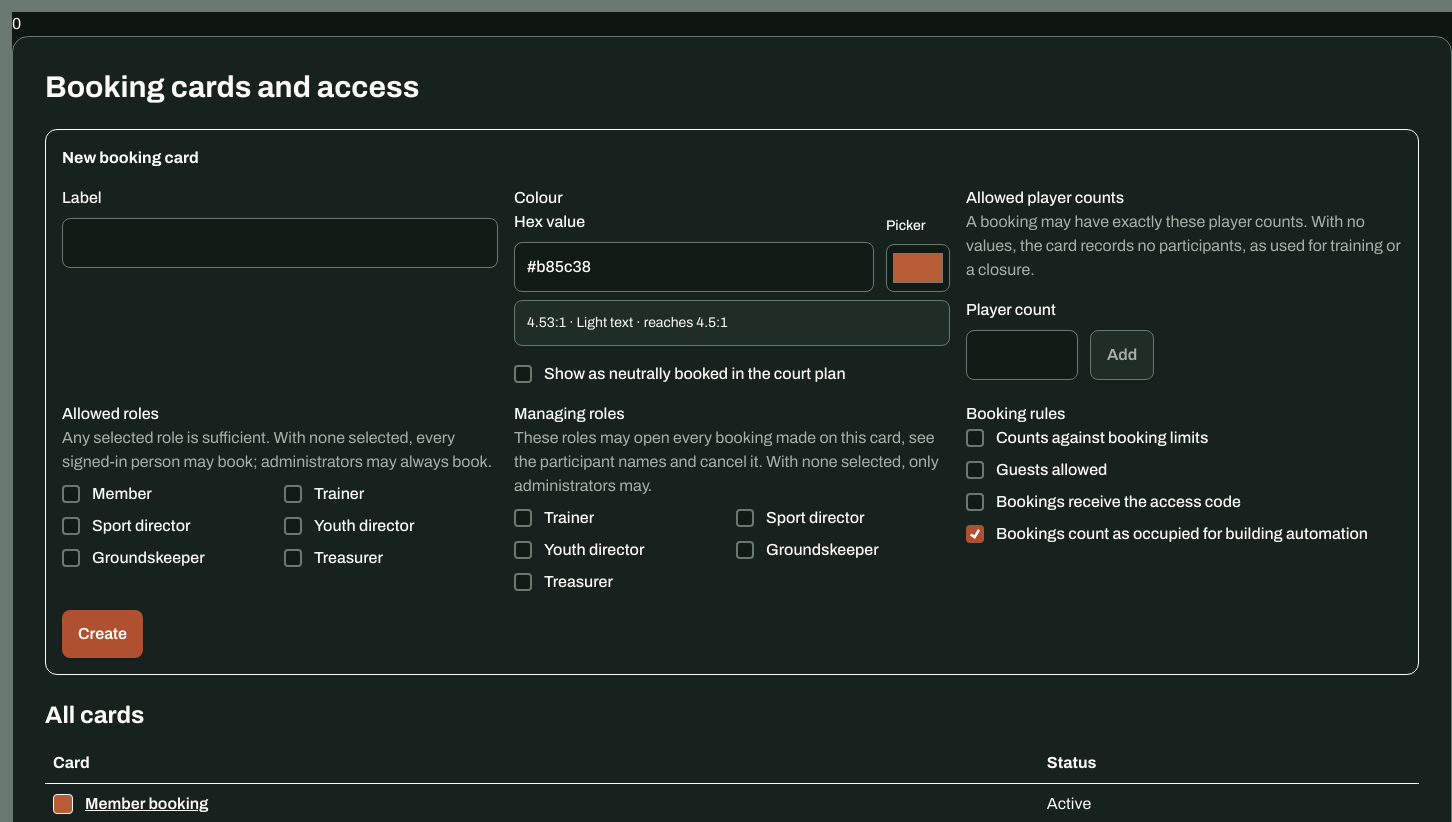
Test: AdminBookingCardsView › given a create form is filled in, when the entry is cleared again, then nothing is left to lose
The width and height of the screenshot is (1452, 822).
Check: the text with test id "unsaved-count" reads "0", box [12,15,21,32]
Type "Training" into the field with test id "new-card-label". click: (280, 243)
box: [62,218,498,268]
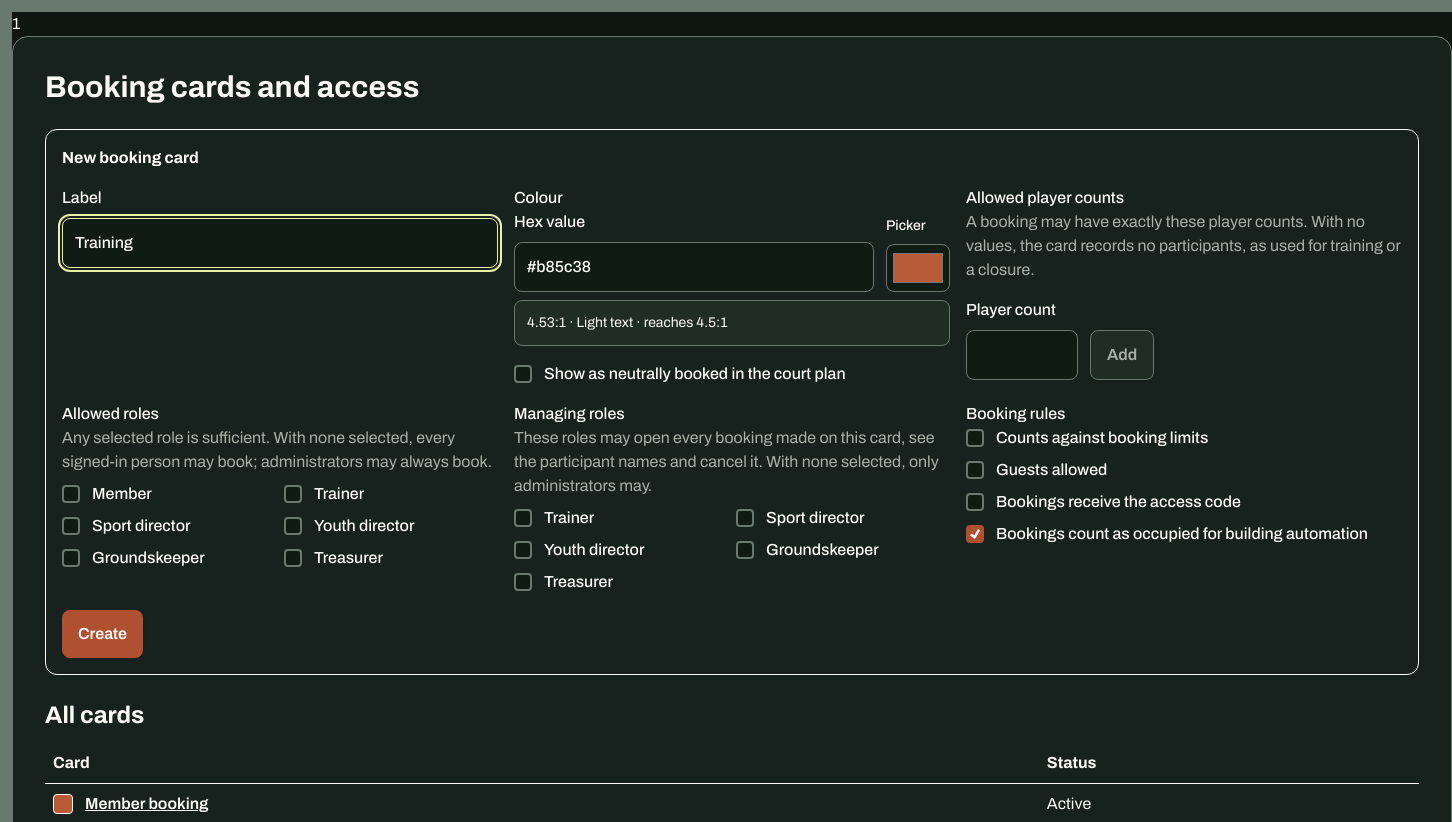
Check: the text with test id "unsaved-count" reads "1", box [12,15,20,32]
Clear the field with test id "new-card-label". click: (280, 243)
box: [62,218,498,268]
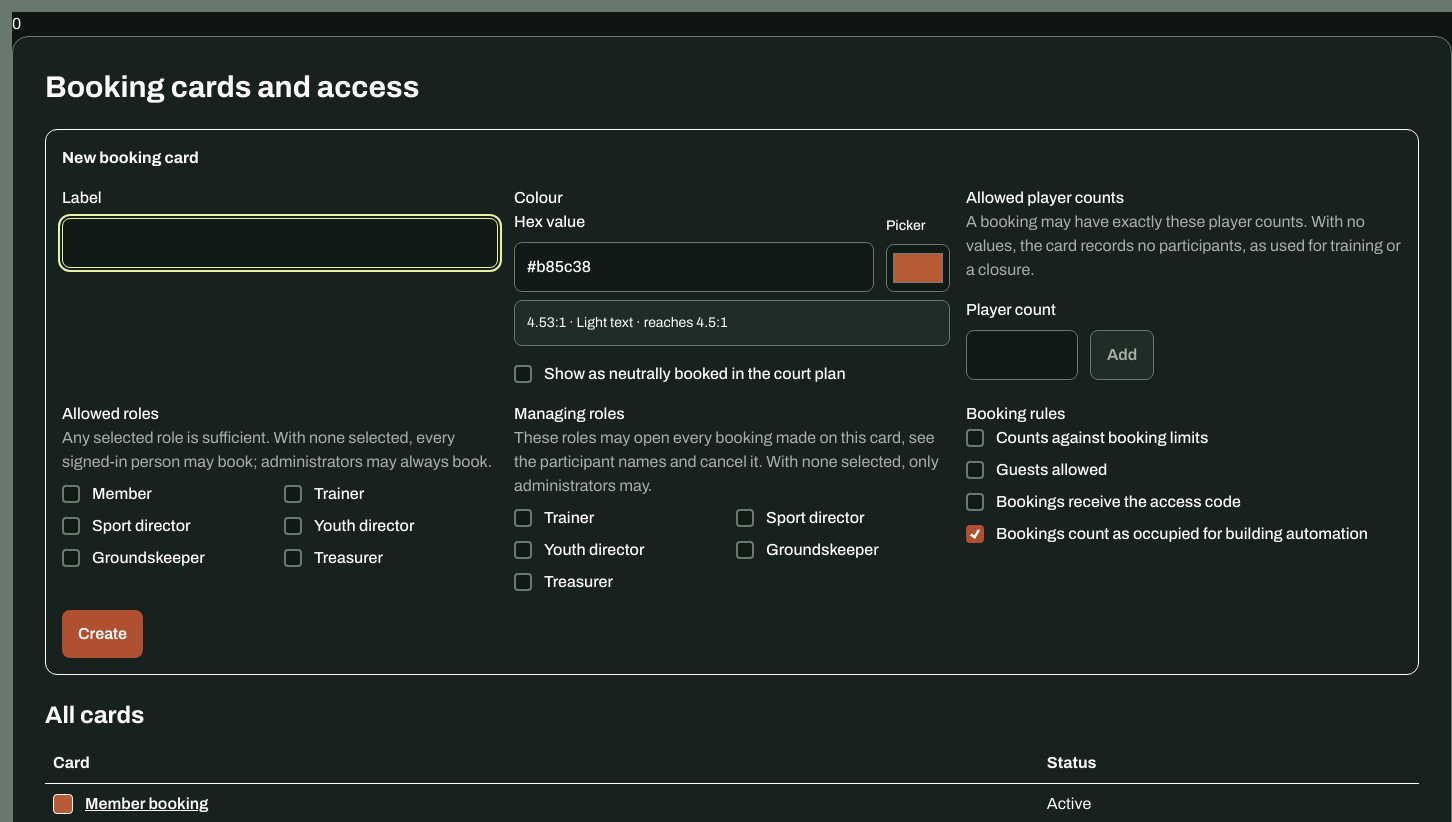
Check: the text with test id "unsaved-count" reads "0", box [12,15,21,32]
